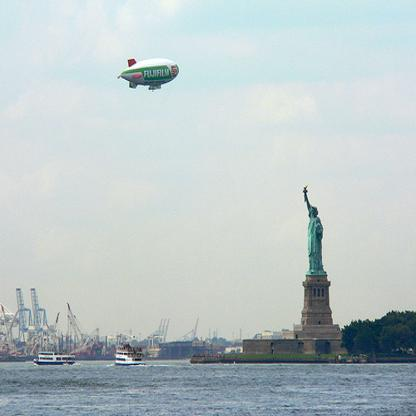Airship: (115, 55, 184, 93)
